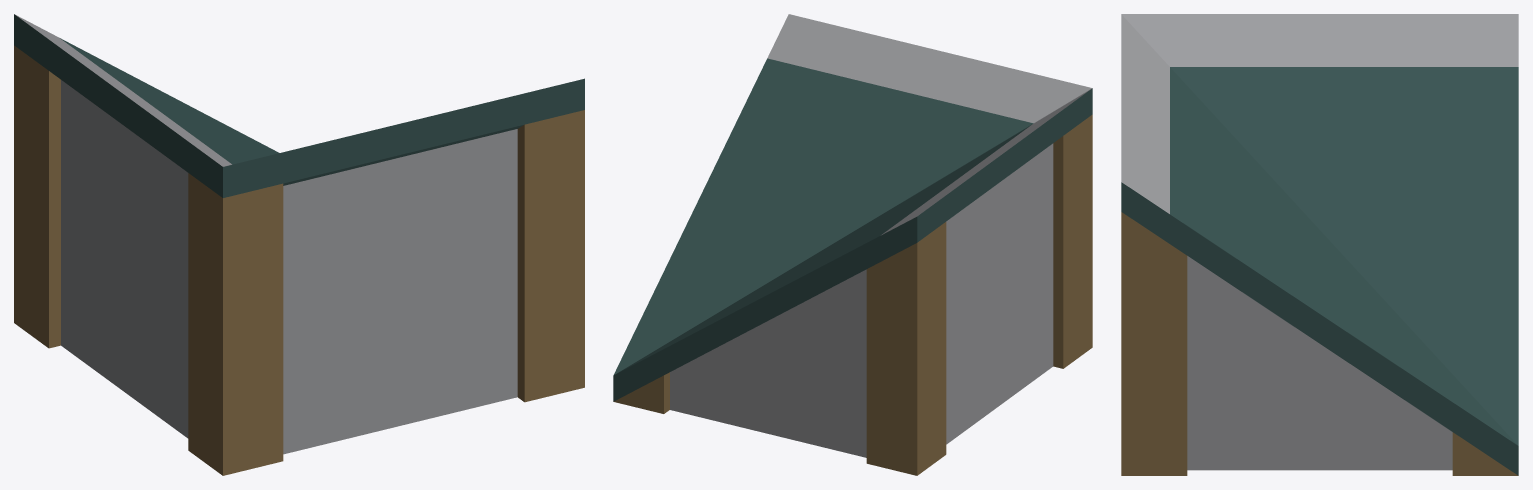
Rendered from Roof_Inner_Corner_Green_01.obj.
3 renders of one model, left to right at view 1: azimuth 30°, elevation 25°; view 2: azimuth 150°, elevation 25°; view 3: azimuth 270°, elevation 25°, orthographic. The views are drawn at different scales.
Visible parts, largest first — view 1: Mesh1_Roof_Inner_Corner_Green_Model.001; view 2: Mesh1_Roof_Inner_Corner_Green_Model.001; view 3: Mesh1_Roof_Inner_Corner_Green_Model.001.
Boxes of the visible parts, <box> form: Mesh1_Roof_Inner_Corner_Green_Model.001: <box>14,14,584,475</box>; Mesh1_Roof_Inner_Corner_Green_Model.001: <box>613,14,1092,475</box>; Mesh1_Roof_Inner_Corner_Green_Model.001: <box>1121,14,1518,475</box>.
Size of the model in its own units: 3 by 2.45 by 3.
